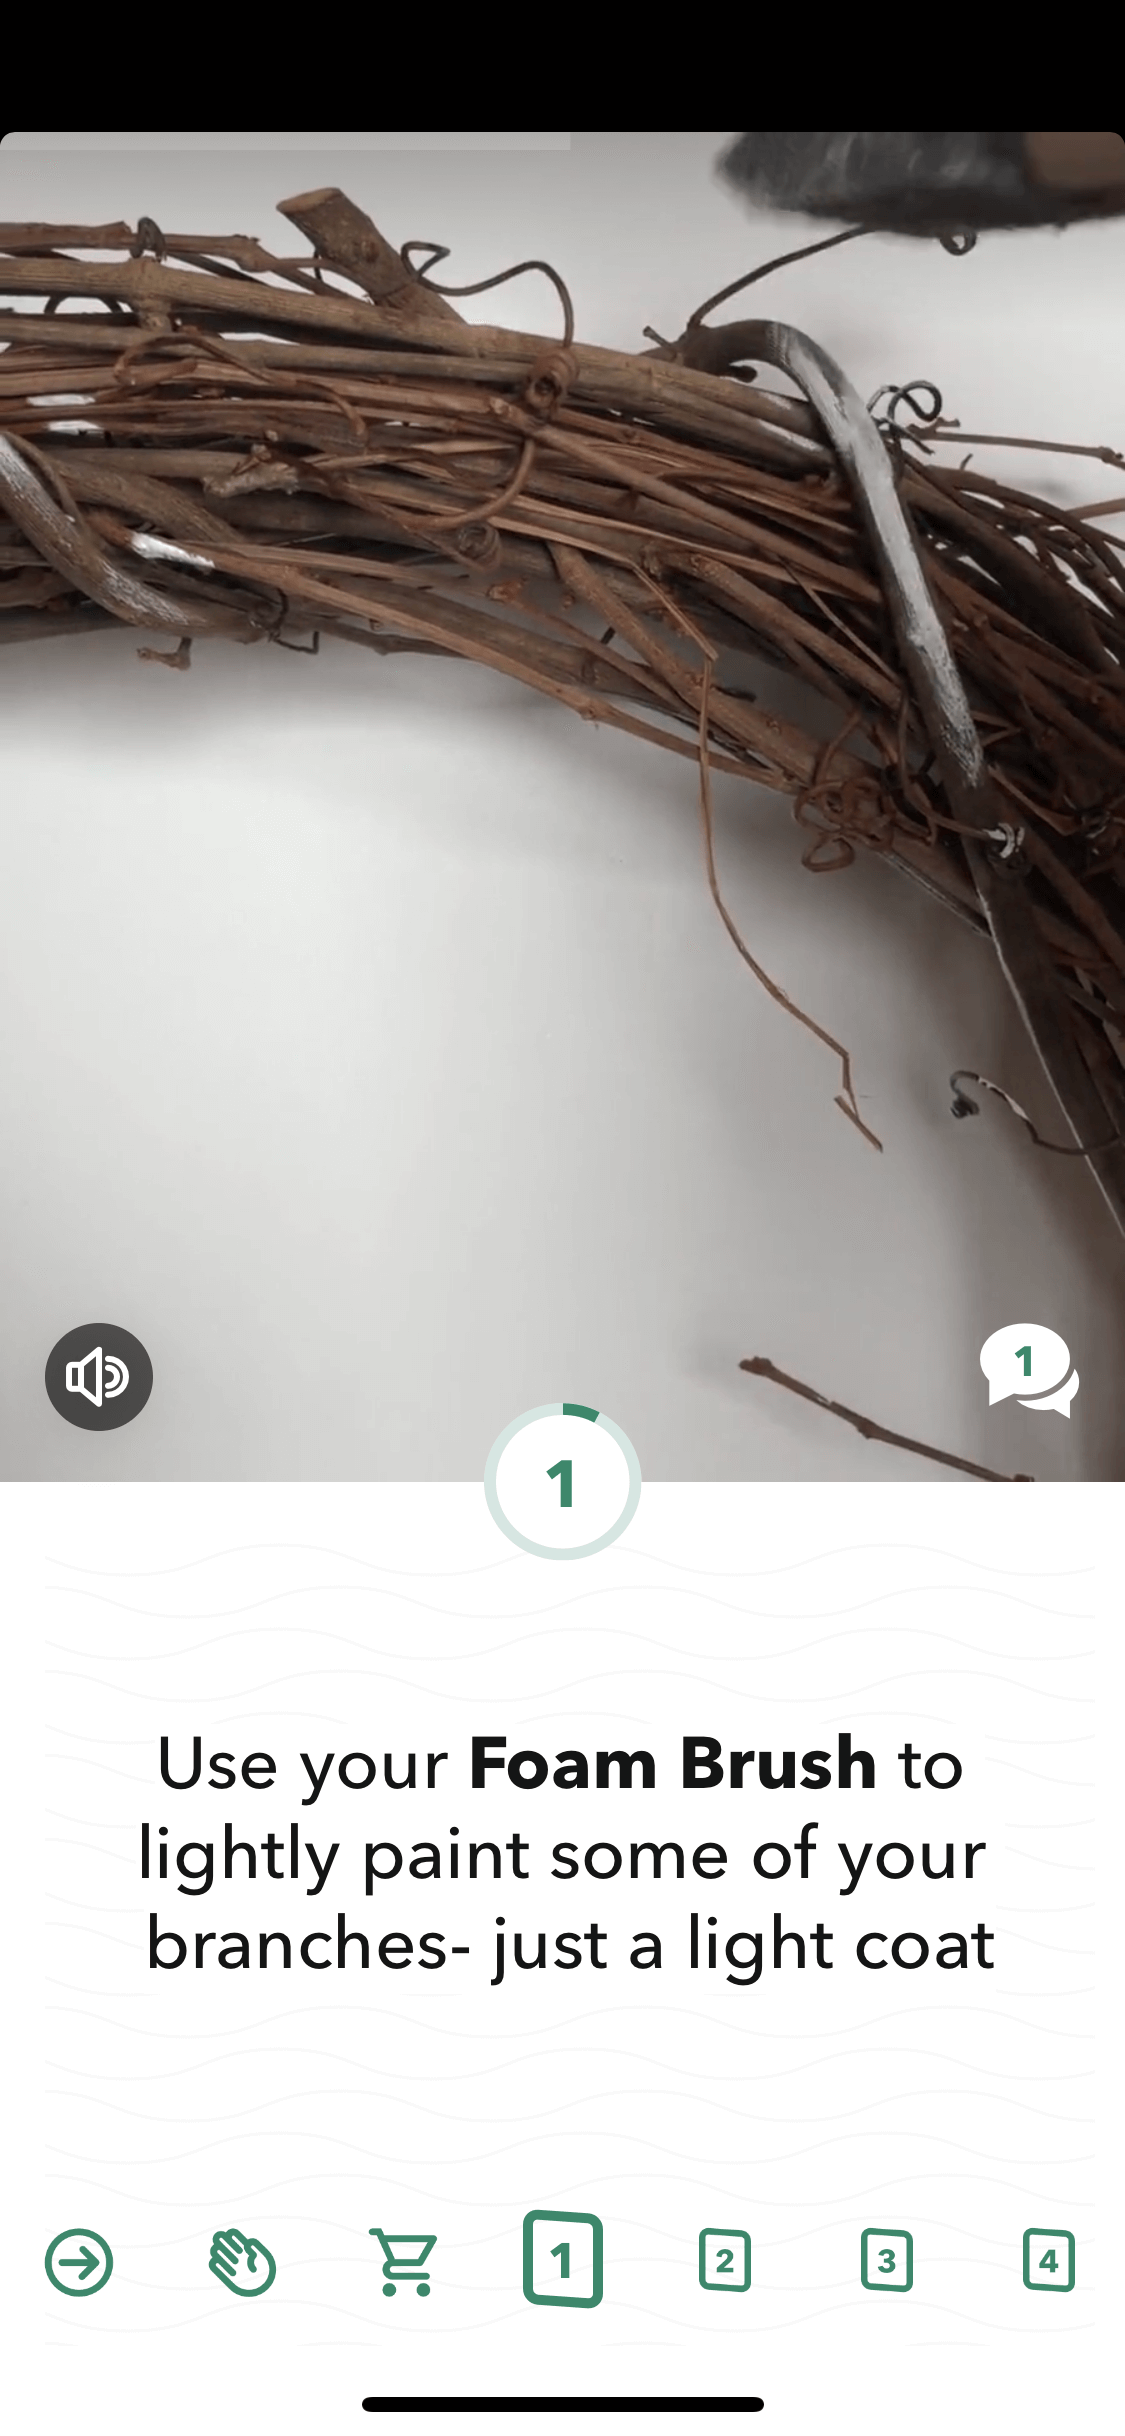Buttons: (949, 1296, 1105, 1449), (30, 1299, 176, 1449)
